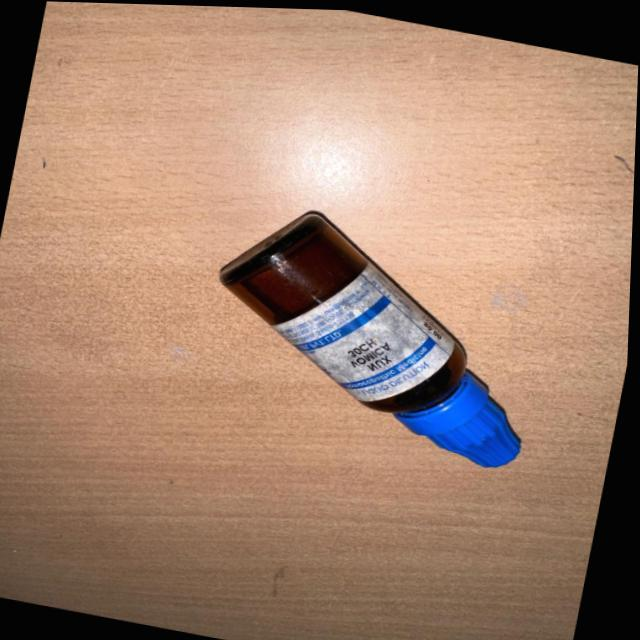medicine: (211, 204, 550, 484)
